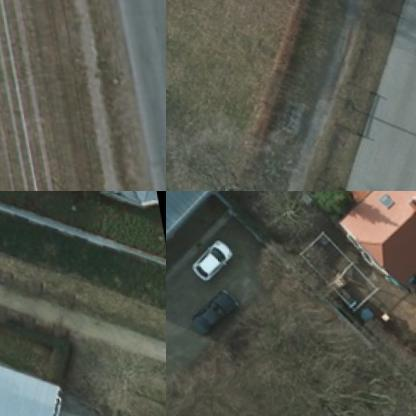car: (178, 284, 238, 338), (184, 236, 231, 282)
